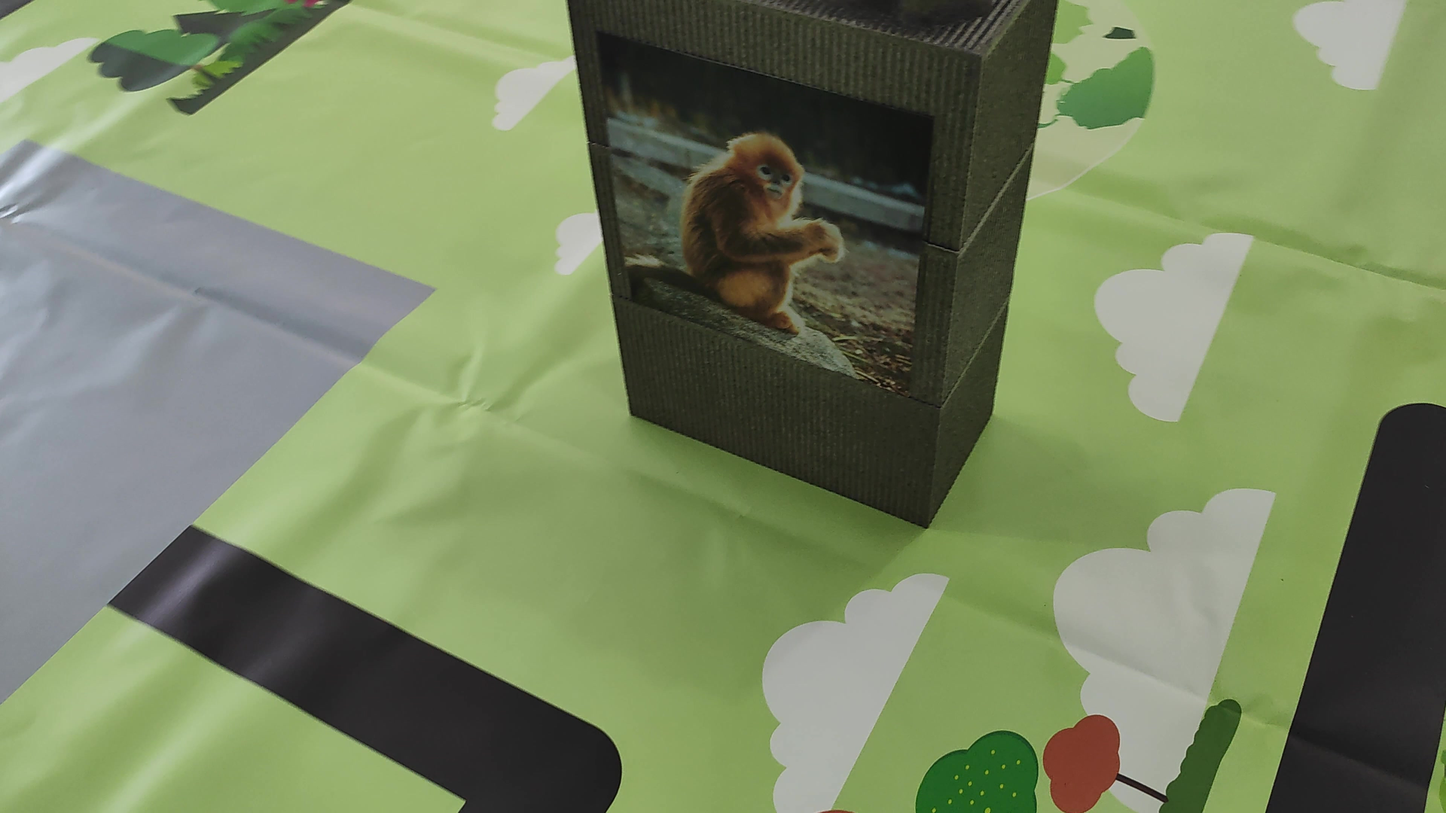monkey: (662, 119, 882, 340)
